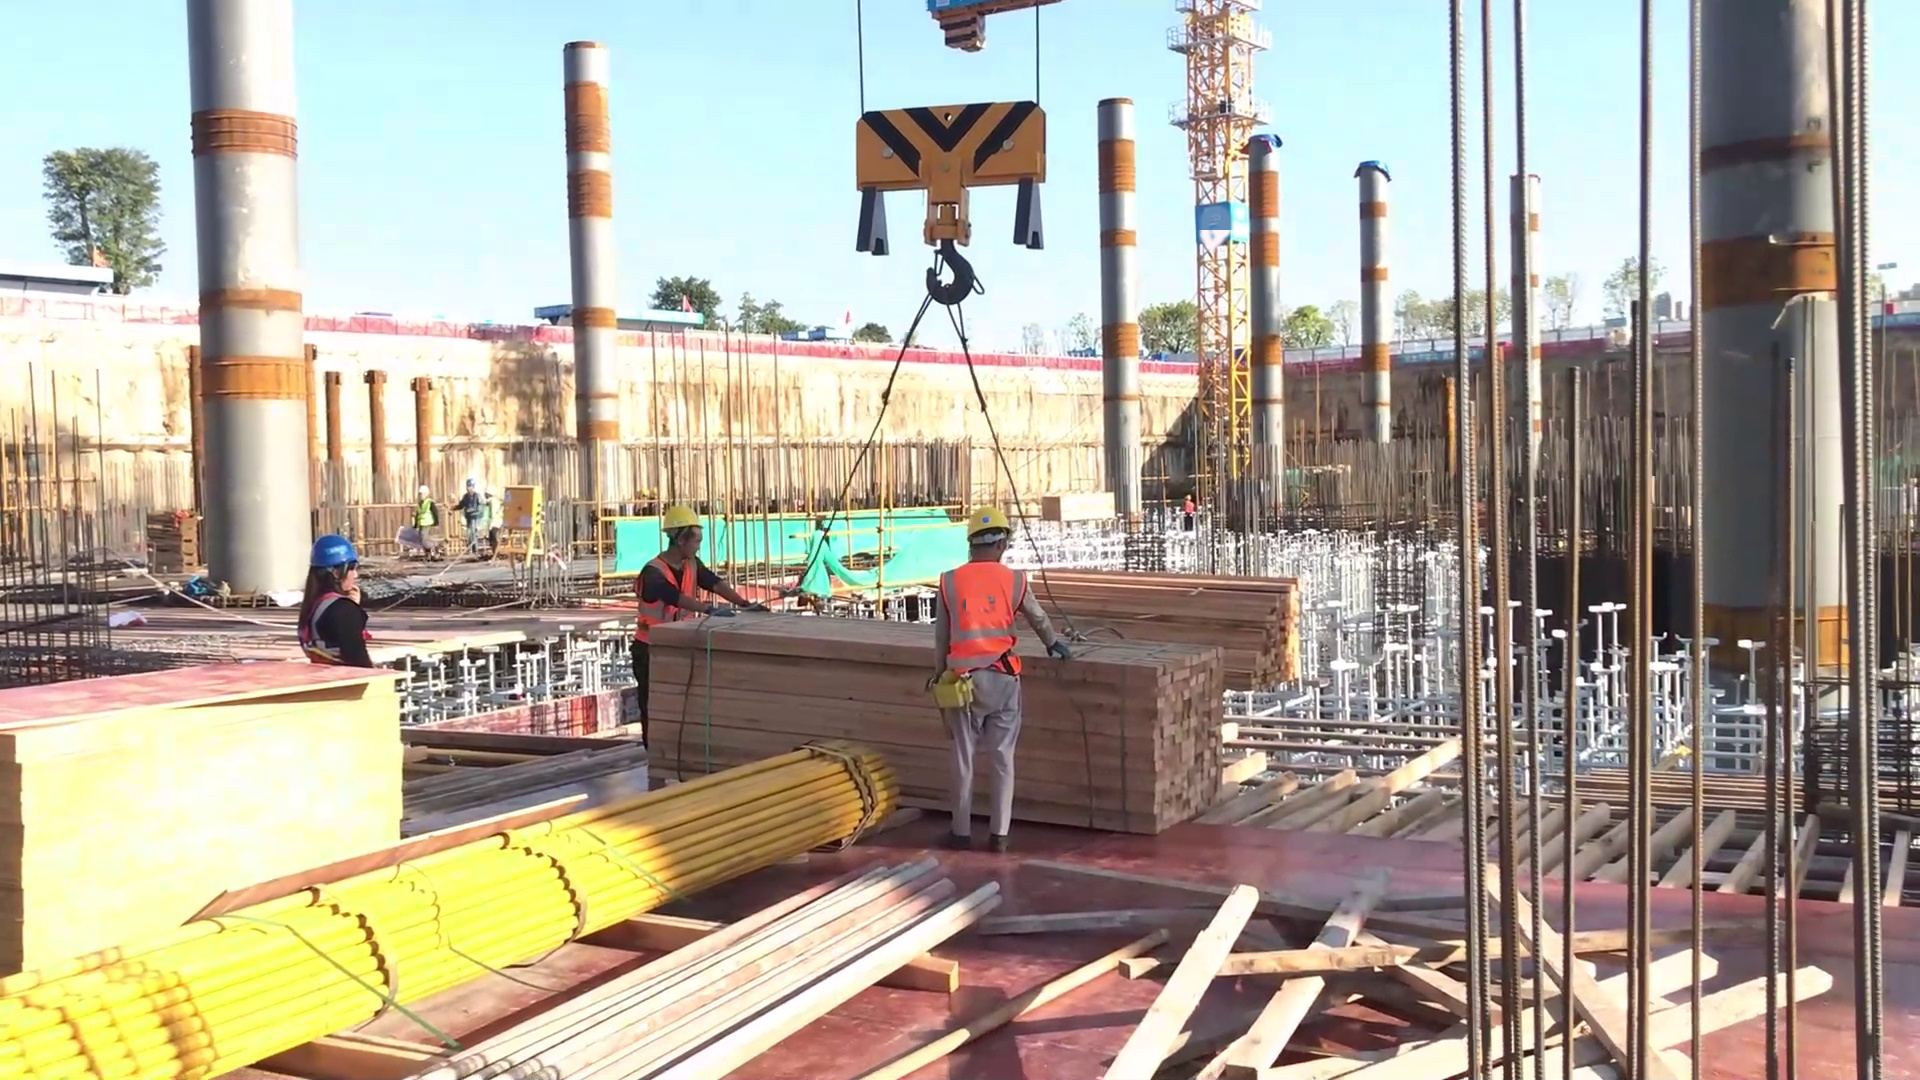helmet: (301, 527, 382, 579), (952, 497, 1013, 539), (656, 499, 713, 535), (415, 472, 432, 489)
person: (932, 504, 1035, 842), (619, 499, 735, 664), (288, 526, 381, 669), (408, 474, 444, 560), (451, 469, 477, 558)
vest: (929, 557, 1024, 670), (289, 585, 385, 685), (624, 553, 708, 653), (415, 493, 442, 529)
